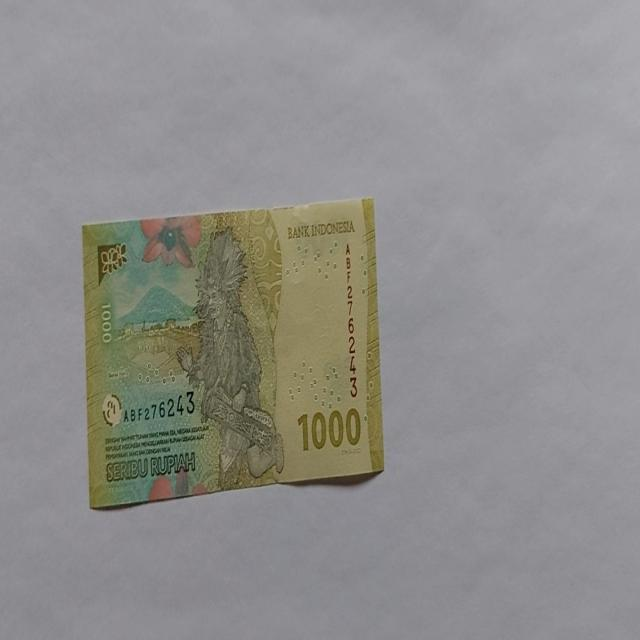seribu rupiah kertas: (81, 196, 385, 510)
